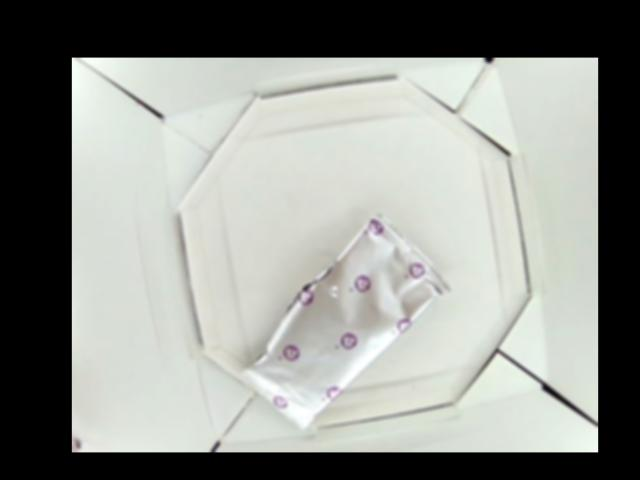Medicine: (240, 212, 450, 445)
